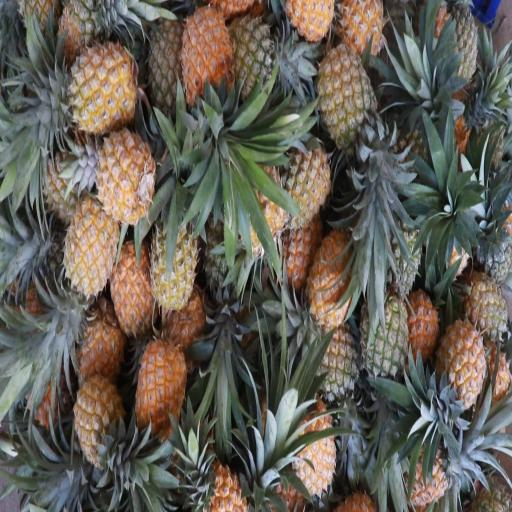------------------------------: (313, 28, 378, 152), (299, 280, 355, 386), (149, 197, 199, 313), (459, 252, 512, 334), (233, 19, 280, 102)
Pineapple - v8 v1: (44, 38, 138, 138), (92, 121, 155, 234), (281, 380, 341, 498), (56, 190, 118, 302), (302, 197, 360, 314), (174, 0, 236, 109), (130, 333, 187, 441), (434, 302, 485, 418), (70, 371, 128, 469), (276, 112, 330, 209), (107, 237, 158, 337), (185, 434, 248, 512), (401, 422, 451, 512)
